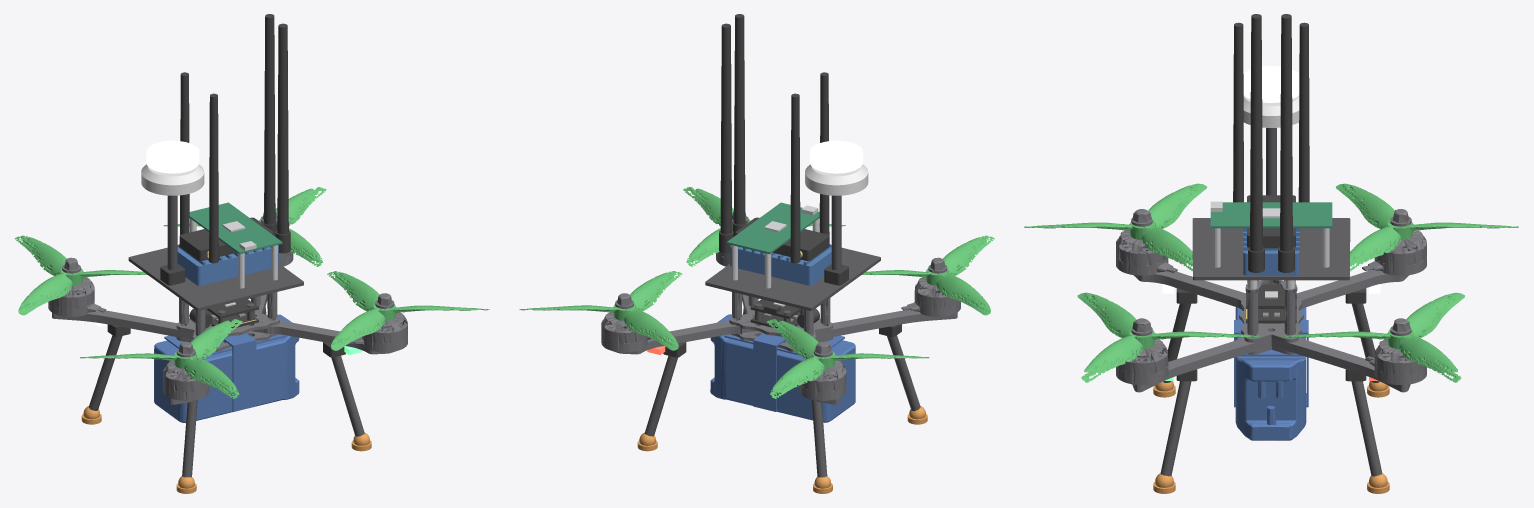
The model's file is relay.glb.
3 views of the same model, side by side, from view 1: azimuth 30°, elevation 25°; view 2: azimuth 150°, elevation 25°; view 3: azimuth 270°, elevation 25° (orthographic). The views are drawn at different scales.
Visible parts, largest first — view 1: airframe, battery_under_frame, RFD900x_long_range_modem___2_dipoles_2, Wi_Fi_LoRa_mesh_node___2_dipoles_0, Top_adapter_plate_1, rotor_0_visual, rotor_3_visual, rotor_1_visual, Landing_gear__4x_CF_legs__1, RFD900x_long_range_modem___2_dipoles_0, Raspberry_Pi_Zero_2_W_companion_0, role_beacon (+6 smaller); view 2: airframe, battery_under_frame, RFD900x_long_range_modem___2_dipoles_2, Top_adapter_plate_1, Wi_Fi_LoRa_mesh_node___2_dipoles_0, rotor_2_visual, rotor_1_visual, rotor_3_visual, Landing_gear__4x_CF_legs__1, RFD900x_long_range_modem___2_dipoles_0, Raspberry_Pi_Zero_2_W_companion_0, role_beacon (+6 smaller); view 3: airframe, battery_under_frame, RFD900x_long_range_modem___2_dipoles_2, Top_adapter_plate_1, Wi_Fi_LoRa_mesh_node___2_dipoles_0, Landing_gear__4x_CF_legs__1, rotor_0_visual, rotor_2_visual, rotor_1_visual, rotor_3_visual, Raspberry_Pi_Zero_2_W_companion_0, Landing_gear__4x_CF_legs__2 (+7 smaller).
Part boxes in pixels (x1,y1,x2,y2): airframe: [48, 211, 407, 404]; battery_under_frame: [154, 314, 299, 422]; RFD900x_long_range_modem___2_dipoles_2: [262, 14, 290, 253]; Wi_Fi_LoRa_mesh_node___2_dipoles_0: [179, 72, 273, 263]; Top_adapter_plate_1: [128, 245, 303, 310]; rotor_0_visual: [327, 271, 489, 350]; rotor_3_visual: [80, 319, 242, 398]; rotor_1_visual: [14, 235, 147, 315]; Landing_gear__4x_CF_legs__1: [89, 307, 364, 477]; RFD900x_long_range_modem___2_dipoles_0: [177, 244, 278, 285]; Raspberry_Pi_Zero_2_W_companion_0: [189, 202, 282, 254]; role_beacon: [146, 140, 199, 173]; airframe: [601, 211, 960, 404]; battery_under_frame: [710, 314, 855, 422]; RFD900x_long_range_modem___2_dipoles_2: [719, 14, 746, 253]; Top_adapter_plate_1: [705, 245, 880, 310]; Wi_Fi_LoRa_mesh_node___2_dipoles_0: [735, 72, 829, 263]; rotor_2_visual: [519, 271, 682, 350]; rotor_1_visual: [767, 319, 929, 398]; rotor_3_visual: [862, 235, 994, 315]; Landing_gear__4x_CF_legs__1: [644, 307, 920, 477]; RFD900x_long_range_modem___2_dipoles_0: [730, 244, 831, 285]; Raspberry_Pi_Zero_2_W_companion_0: [727, 202, 819, 254]; role_beacon: [810, 140, 863, 173]; airframe: [1116, 209, 1426, 392]; battery_under_frame: [1234, 307, 1308, 440]; RFD900x_long_range_modem___2_dipoles_2: [1248, 14, 1294, 272]; Top_adapter_plate_1: [1192, 218, 1350, 280]; Wi_Fi_LoRa_mesh_node___2_dipoles_0: [1233, 22, 1309, 248]; Landing_gear__4x_CF_legs__1: [1160, 303, 1382, 476]; rotor_0_visual: [1077, 292, 1260, 382]; rotor_2_visual: [1282, 292, 1464, 382]; rotor_1_visual: [1336, 183, 1518, 271]; rotor_3_visual: [1024, 183, 1206, 271]; Raspberry_Pi_Zero_2_W_companion_0: [1210, 202, 1332, 228]; Landing_gear__4x_CF_legs__2: [1153, 381, 1389, 493].
Size of the model in its own units: 0.2493 by 0.2665 by 0.2648.
